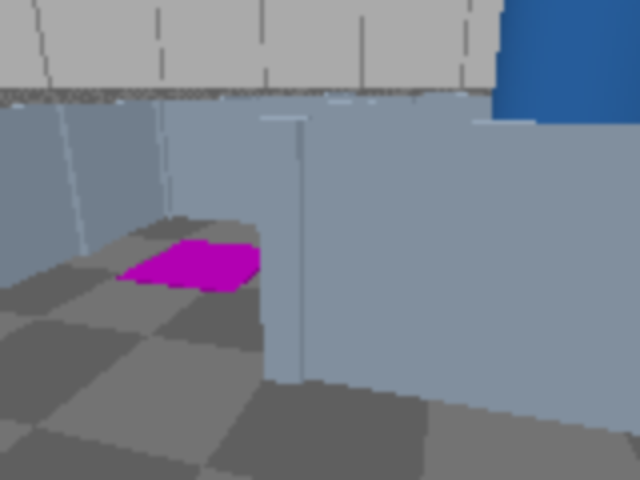goal_zone: (116, 240, 281, 294)
